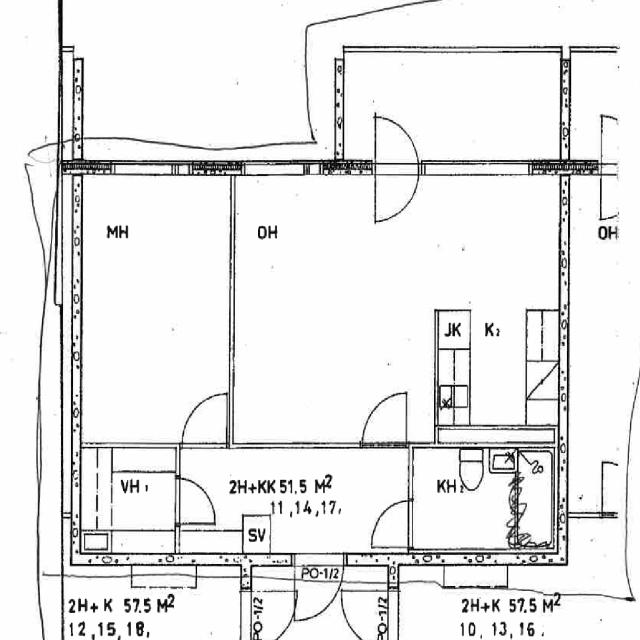door: (294, 552, 344, 623), (376, 160, 418, 224), (376, 110, 418, 174), (182, 390, 226, 448), (362, 391, 406, 448), (175, 478, 219, 524), (369, 501, 413, 546)
